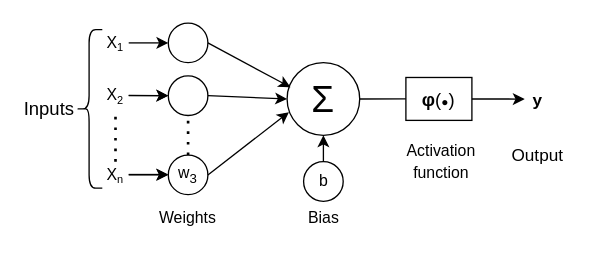
The diagram is 599 pixels wide and 260 high, and some of its shapes have lost their labels. Each missing label, with the centre of its shape:
w 1: point (187, 42)
w 2: point (187, 95)
